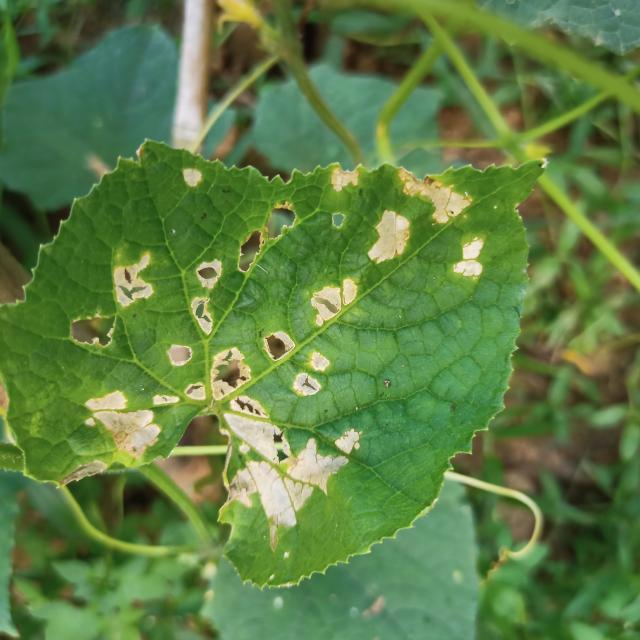disease_cucumber: (61, 244, 362, 551), (228, 159, 522, 328), (168, 161, 222, 194)
